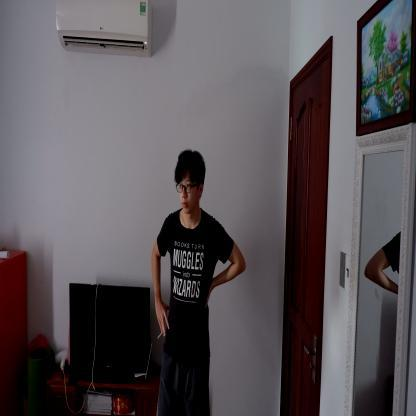cigarette: (157, 331, 164, 340)
person: (150, 148, 242, 416)
